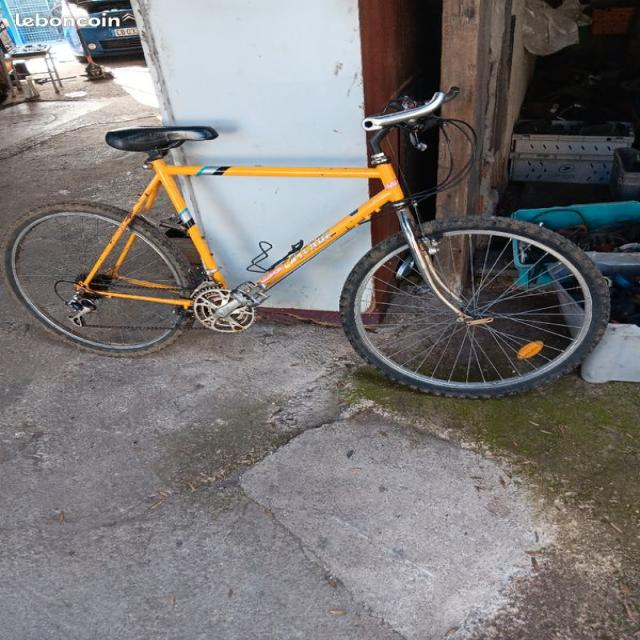Bike: (4, 87, 608, 398)
